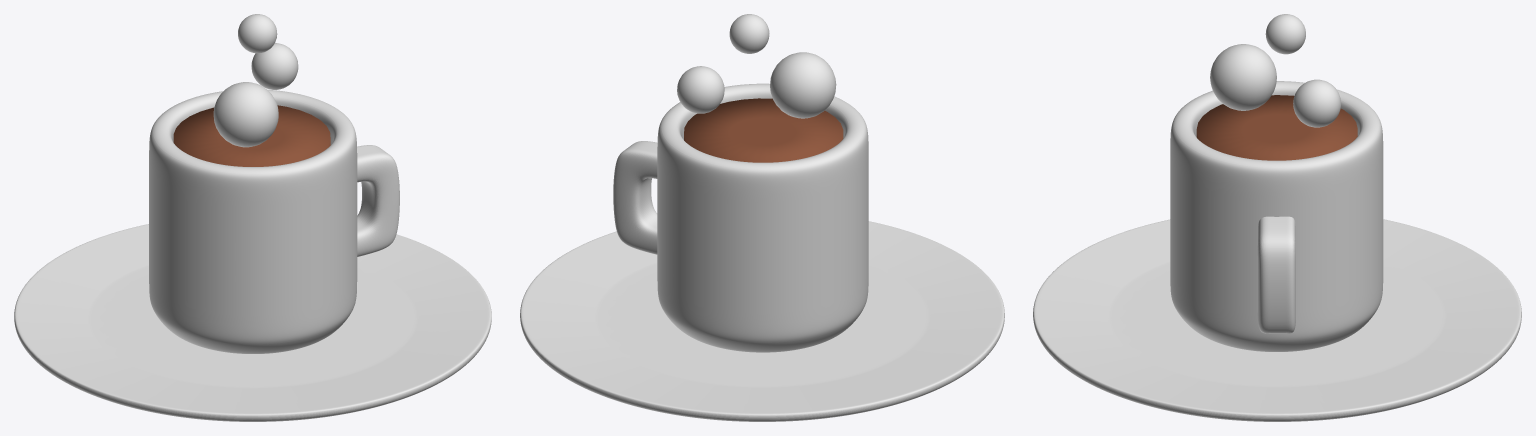
File: coffeecup-v3.glb
3 renders of one model, left to right at view 1: azimuth 30°, elevation 25°; view 2: azimuth 150°, elevation 25°; view 3: azimuth 270°, elevation 25°, orthographic. The views are drawn at different scales.
Parts seen in each view (by area): view 1: 柱体, cup, 柱体.001, handle, 球体, 球体.001, 球体.002; view 2: 柱体, cup, 柱体.001, handle, 球体, 球体.001, 球体.002; view 3: 柱体, cup, 柱体.001, handle, 球体, 球体.001, 球体.002.
Boxes of the visible parts, x1=… form: 柱体: x1=14, y1=224, x2=491, y2=421; cup: x1=149, y1=89, x2=357, y2=353; 柱体.001: x1=173, y1=105, x2=330, y2=166; handle: x1=357, y1=145, x2=399, y2=256; 球体: x1=213, y1=82, x2=278, y2=147; 球体.001: x1=251, y1=43, x2=298, y2=89; 球体.002: x1=238, y1=14, x2=277, y2=53; 柱体: x1=520, y1=221, x2=1004, y2=421; cup: x1=657, y1=83, x2=868, y2=352; 柱体.001: x1=684, y1=98, x2=843, y2=162; handle: x1=613, y1=141, x2=657, y2=254; 球体: x1=770, y1=52, x2=836, y2=118; 球体.001: x1=677, y1=66, x2=724, y2=113; 球体.002: x1=729, y1=14, x2=769, y2=53; 柱体: x1=1033, y1=219, x2=1521, y2=421; cup: x1=1170, y1=81, x2=1383, y2=351; 柱体.001: x1=1196, y1=95, x2=1357, y2=160; handle: x1=1257, y1=216, x2=1295, y2=333; 球体: x1=1210, y1=44, x2=1276, y2=110; 球体.001: x1=1293, y1=79, x2=1341, y2=127; 球体.002: x1=1265, y1=14, x2=1305, y2=54.
Size of the model in its own units: 4.56 by 3.25 by 4.56.
